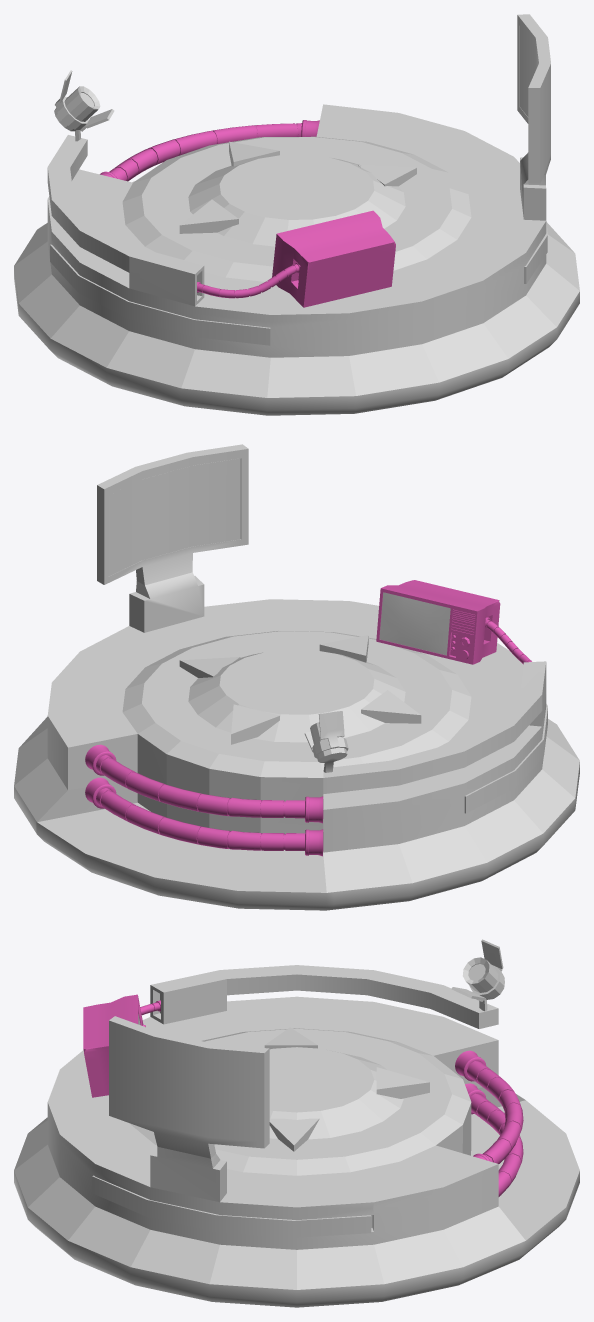
3 views of the same model, one above another, from view 1: azimuth 30°, elevation 25°; view 2: azimuth 150°, elevation 25°; view 3: azimuth 270°, elevation 25° (orthographic).
Parts seen in each view (by area): view 1: polySurface62; view 2: polySurface62; view 3: polySurface62.
Boxes of the visible parts, x1,y1,x2,y2 form: polySurface62: (14,14,579,415); polySurface62: (14,444,579,910); polySurface62: (14,939,579,1307).
Size of the model in its own units: 5.09 by 2.41 by 5.09.
